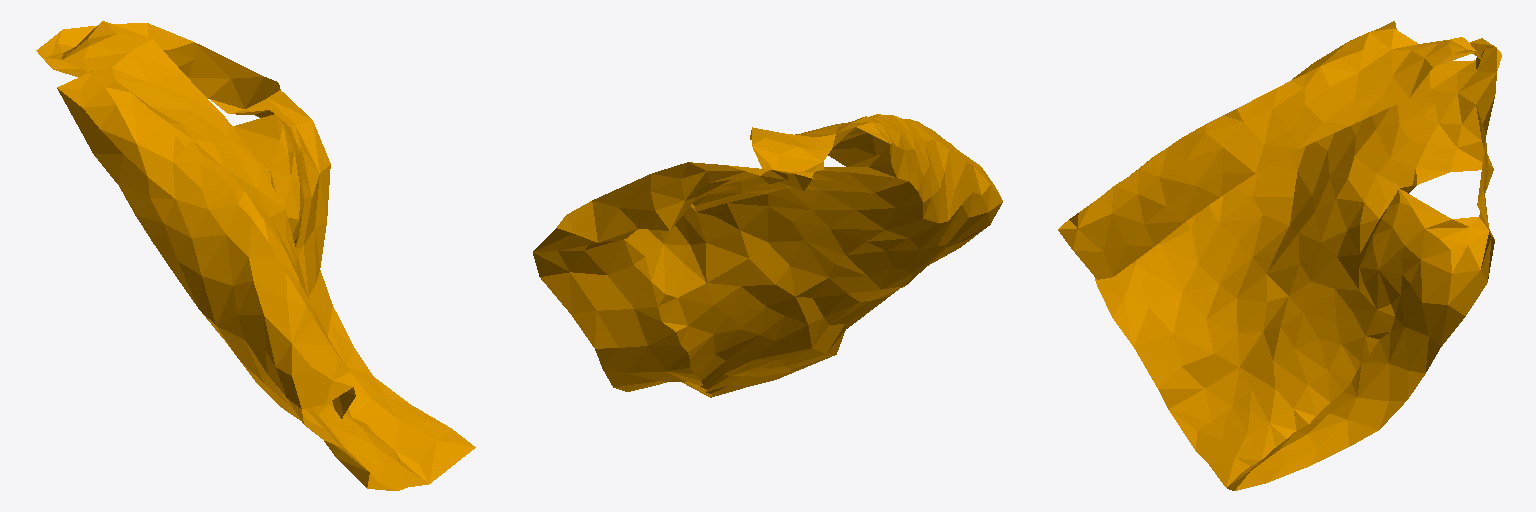
URDF robot description (init):
<?xml version='1.0' encoding='utf-8'?>
<robot name="init">
<link name="link_0"><inertial><mass value="1.0" /><origin rpy="0 0 0" xyz="0.000000 0.000000 0.000000" /><inertia ixx="1.0" ixy="0.0" ixz="0.0" iyy="1.0" iyz="0.0" izz="1.0" /></inertial><visual><origin rpy="0 0 0" xyz="0.000000 0.000000 0.000000" /><geometry><mesh filename="./clothHuman/cloth/1403.obj" /></geometry></visual><collision><origin rpy="0 0 0" xyz="0.000000 0.000000 0.000000" /><geometry><mesh filename="./clothHuman/cloth/1403.obj" /></geometry></collision></link></robot>

--- Facts derived from the render (not from the file) ---
3 views of the same robot in one strip: view 1: azimuth 30°, elevation 25°; view 2: azimuth 150°, elevation 25°; view 3: azimuth 270°, elevation 25° (orthographic).
Model init with 1 links and 0 joints (none), rooted at link_0, posed every joint at zero.
Links seen in each view (by area): view 1: link_0; view 2: link_0; view 3: link_0.
Boxes of the visible links, left/top/right/bottom form: link_0: left=36, top=21, right=475, bottom=490; link_0: left=533, top=114, right=1002, bottom=397; link_0: left=1058, top=21, right=1501, bottom=490.
Bounding box of the posed robot: 2.72 × 3.61 × 3.2 m (x, y, z).
1 mesh visuals loaded from 1 distinct referenced files (1 OBJ).